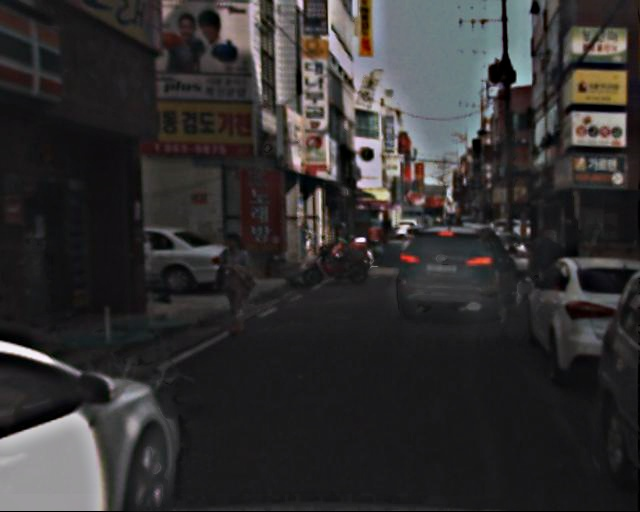person: (214, 231, 259, 337), (528, 224, 569, 312)
